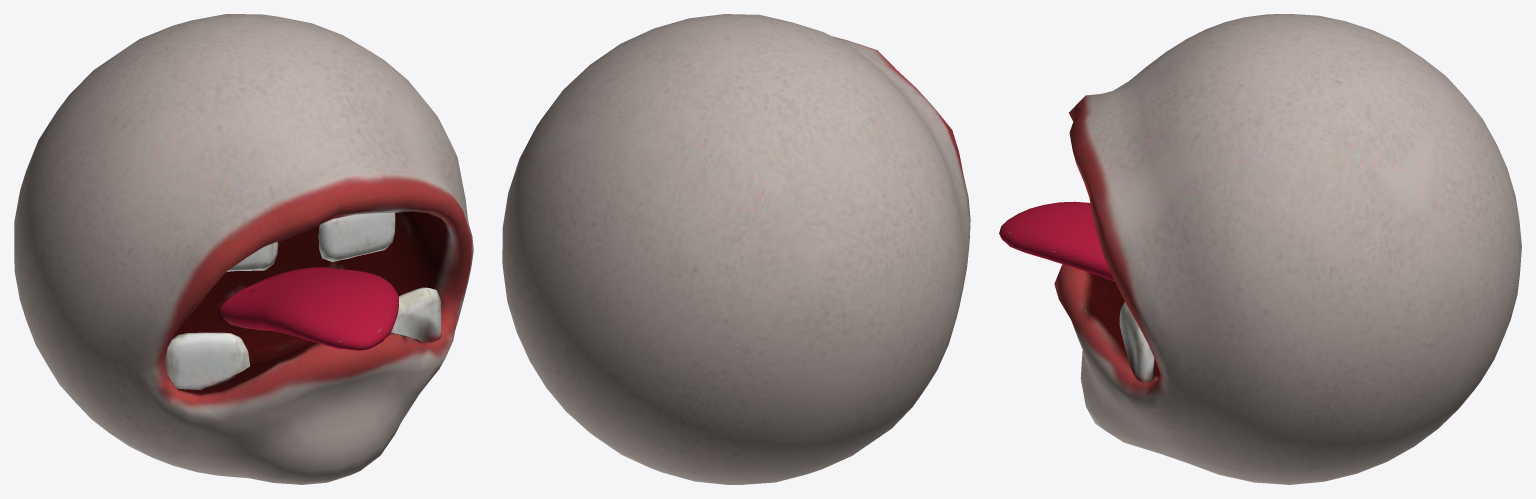
File: Mouth.fbx
The picture shows the model from 3 angles, left to right: view 1: azimuth 30°, elevation 25°; view 2: azimuth 150°, elevation 25°; view 3: azimuth 270°, elevation 25°; orthographic projection.
Visible parts, largest first — view 1: Quad Sphere, Sphere, Cube004, Cube, Cube003, Cube002; view 2: Quad Sphere; view 3: Quad Sphere, Sphere, Cube003.
Boxes of the visible parts, <box> form: Quad Sphere: <box>14,14,473,484</box>; Sphere: <box>218,267,398,350</box>; Cube004: <box>165,332,249,390</box>; Cube: <box>318,212,395,261</box>; Cube003: <box>391,287,441,342</box>; Cube002: <box>227,241,278,271</box>; Quad Sphere: <box>502,14,970,484</box>; Quad Sphere: <box>1054,14,1521,484</box>; Sphere: <box>999,201,1114,281</box>; Cube003: <box>1119,301,1154,382</box>.
Size of the model in its own units: 101 by 101 by 112.
1 material, 1 textured.
